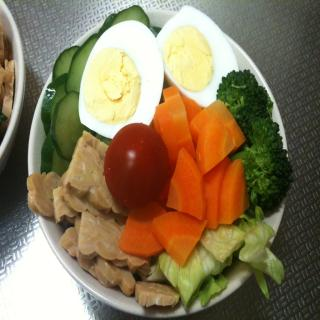tomato: (103, 123, 169, 209)
